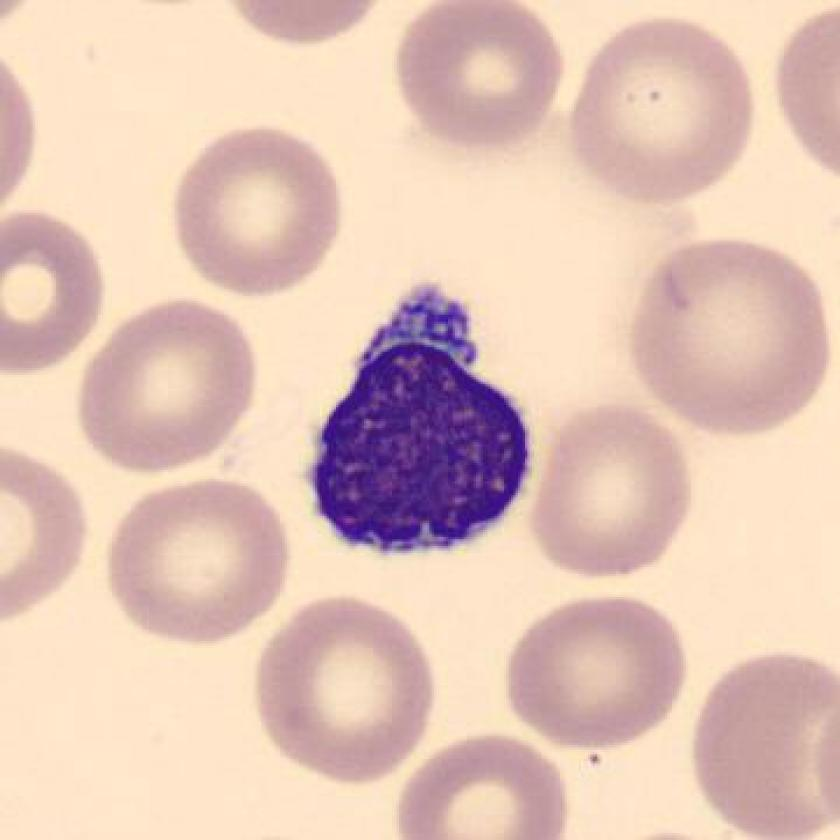lymphocyte: (288, 265, 556, 570)
